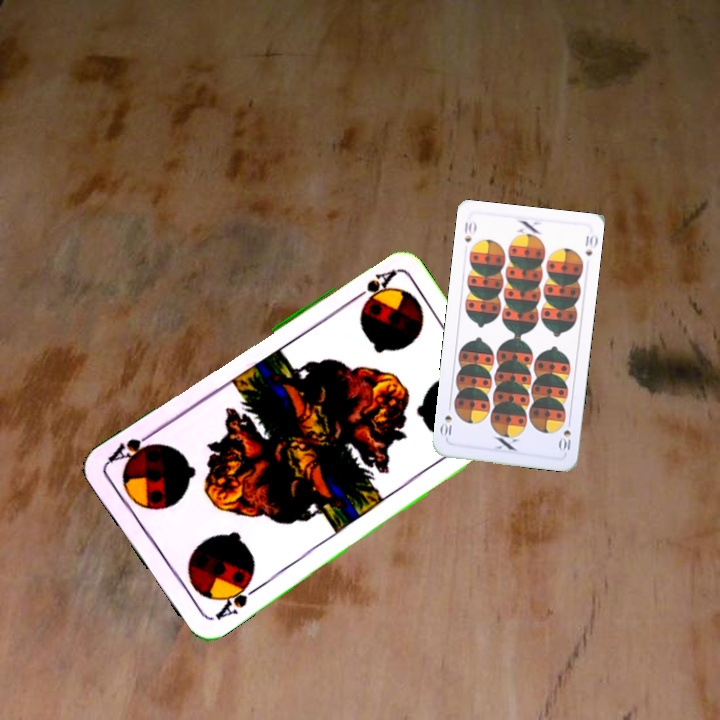S10: (555, 415, 573, 453), (460, 218, 478, 244)
SA: (211, 575, 262, 623), (346, 266, 399, 307)
